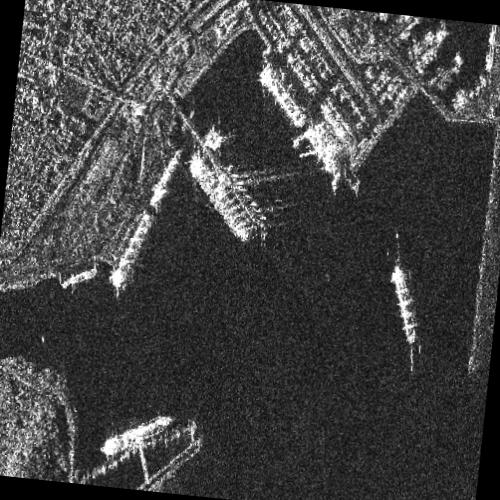ship: (187, 153, 249, 241), (108, 212, 152, 288), (101, 415, 173, 457), (258, 64, 305, 128), (390, 264, 417, 347), (149, 149, 183, 207), (60, 266, 99, 289)
